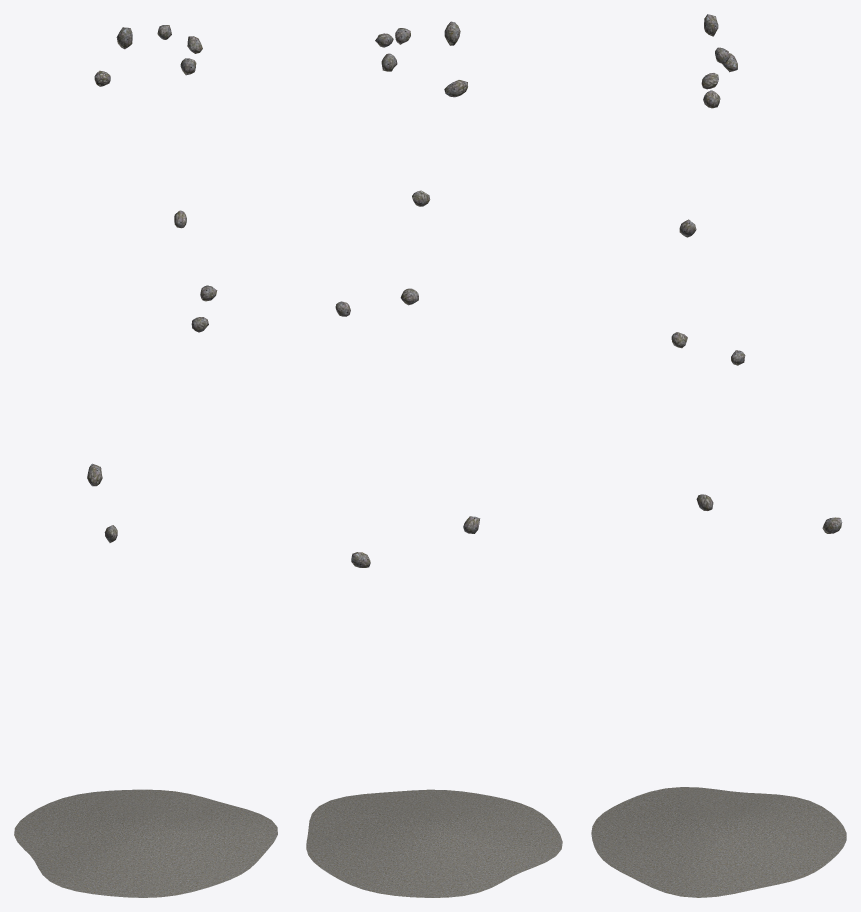
File: PAV-BAS-001_anim.glb
The picture shows the model from 3 angles, left to right: view 1: azimuth 30°, elevation 25°; view 2: azimuth 150°, elevation 25°; view 3: azimuth 270°, elevation 25°; orthographic projection.
Visible parts, largest first — view 1: PAV-BAS-001_anim_monte; view 2: PAV-BAS-001_anim_monte; view 3: PAV-BAS-001_anim_monte.
Boxes of the visible parts, x1,y1,x2,y2 form: PAV-BAS-001_anim_monte: (14, 789, 277, 897); PAV-BAS-001_anim_monte: (306, 789, 562, 897); PAV-BAS-001_anim_monte: (591, 787, 846, 897).
Bounding box in the file's own units: 0.449 × 1.54 × 0.4363.
1 material, 1 textured.
